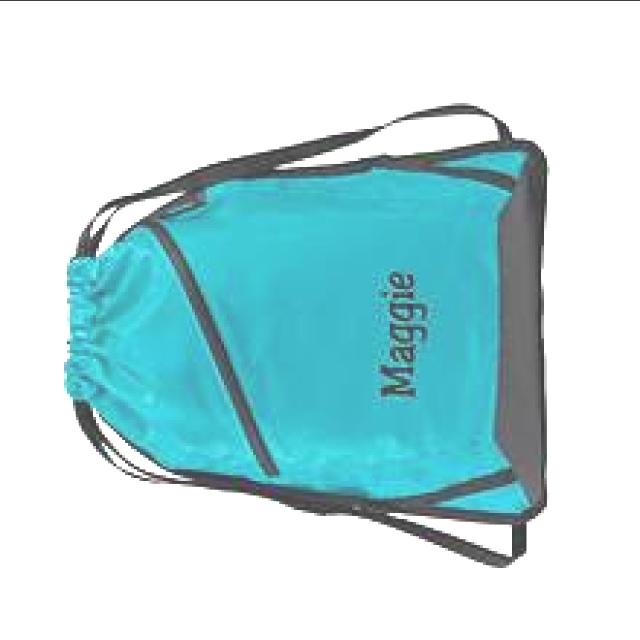backpack: (62, 103, 548, 571)
